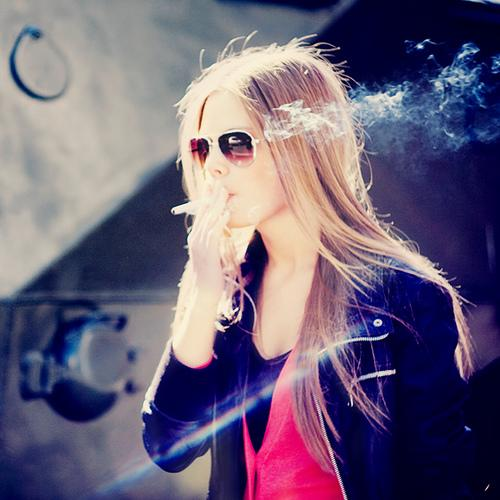person: (139, 39, 463, 498)
